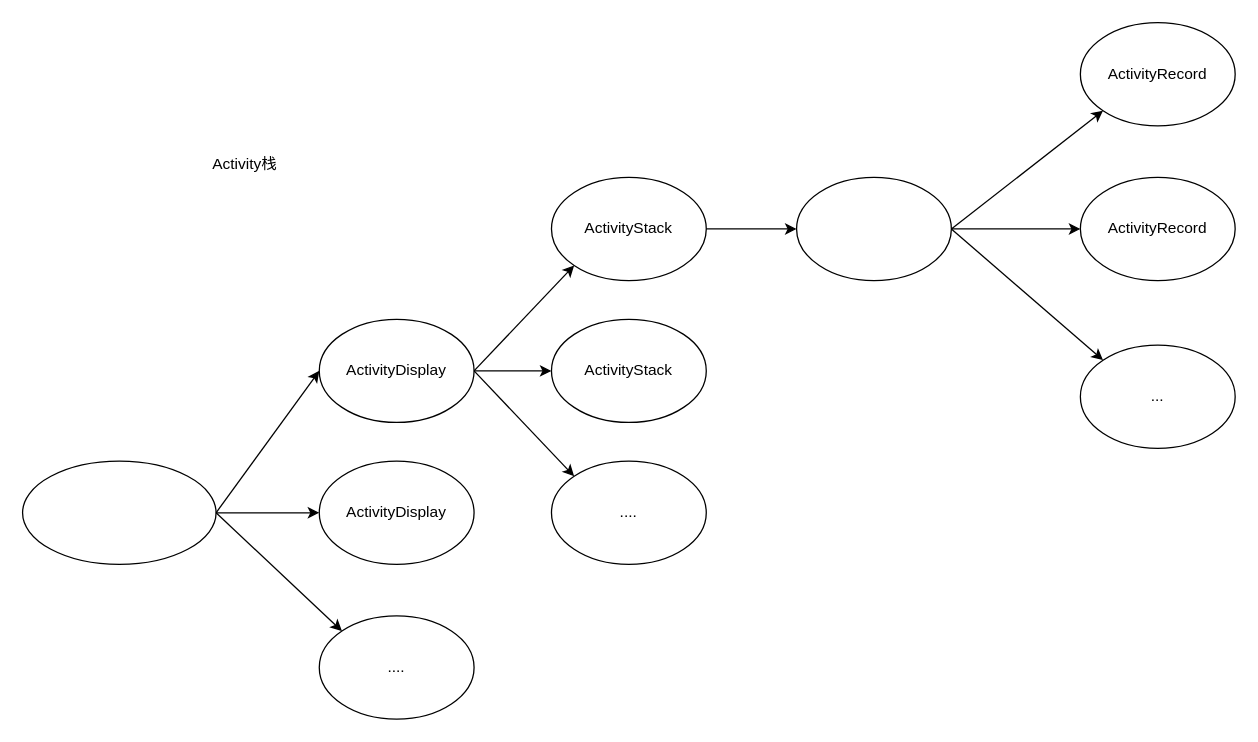
This 1258x742 diagram has some shape labels left out. The centre of each missing label's shape, as x and y in pixels:
ActivityStackSupervisor: the point at 118,512
TaskRecord: the point at 873,228
